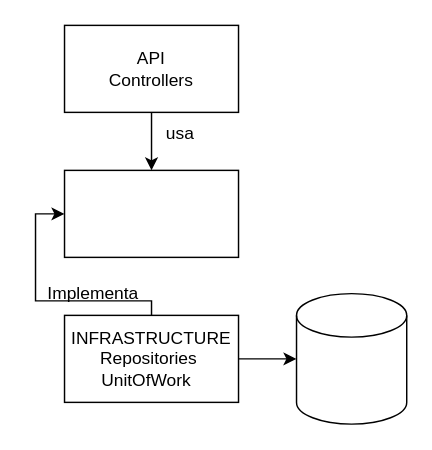
Image size: 432x450. Some labels were removed from this diagram. Each missing label, with the centre of its shape:
"CORE Interfaces Servicios" belongs at (x=151, y=213).
"DATABASE (EF Core SQL)" belongs at (x=351, y=358).
